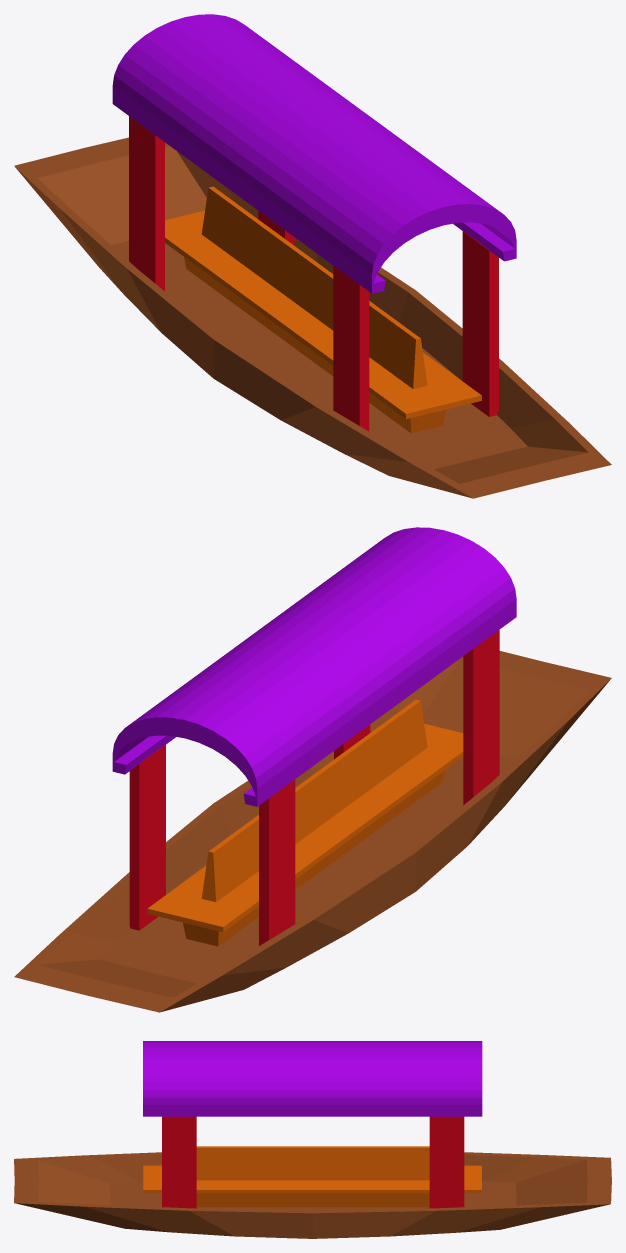
The model's file is Barca.fbx.
3 views of the same model, one above another, from view 1: azimuth 30°, elevation 25°; view 2: azimuth 150°, elevation 25°; view 3: azimuth 270°, elevation 25° (orthographic). The views are drawn at different scales.
Visible parts, largest first — view 1: Barca, Plane; view 2: Barca, Plane; view 3: Barca, Plane.
Part boxes in pixels (left/top/right/bottom): Barca: left=14, top=14, right=611, bottom=498; Plane: left=165, top=186, right=481, bottom=433; Barca: left=14, top=527, right=611, bottom=1012; Plane: left=147, top=699, right=463, bottom=946; Barca: left=14, top=1041, right=611, bottom=1238; Plane: left=143, top=1146, right=481, bottom=1207.
Bounding box in the file's own units: 200 × 229 × 782.
